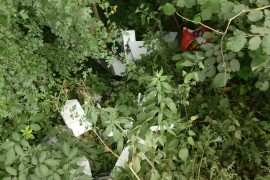trash: (89, 18, 228, 91), (53, 87, 94, 141)
